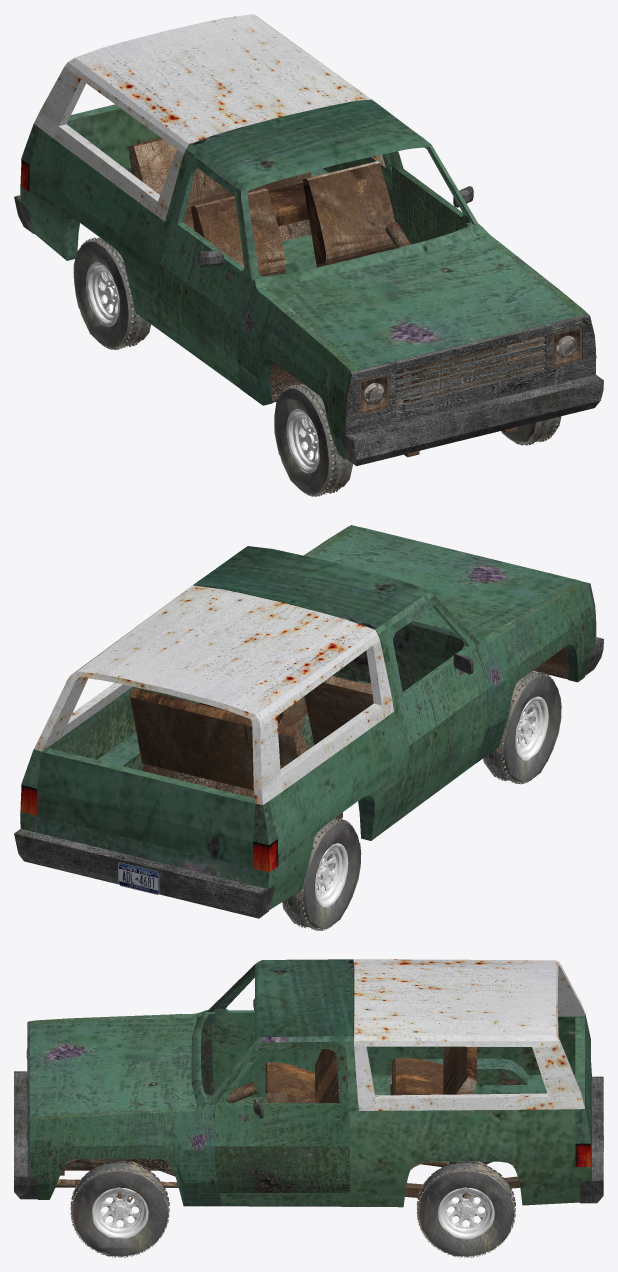
Rendered from low-poly-1977-chevrolet-blazer-ef8185.glb.
The picture shows the model from 3 angles, top to bottom: view 1: azimuth 30°, elevation 25°; view 2: azimuth 150°, elevation 25°; view 3: azimuth 270°, elevation 25°; orthographic projection. The views are drawn at different scales.
Parts seen in each view (by area): view 1: body, wheel-front-right, wheel-back-right, wheel-front-left; view 2: body, wheel-front-right, wheel-back-right; view 3: body, wheel-front-left, wheel-back-left.
Boxes of the visible parts, x1,y1,x2,y2 form: body: (14,14,603,473); wheel-front-right: (274,383,352,496); wheel-back-right: (73,237,150,349); wheel-front-left: (501,416,561,445); body: (14,525,603,918); wheel-front-right: (483,670,561,784); wheel-back-right: (282,818,361,930); body: (14,959,603,1239); wheel-front-left: (70,1161,169,1257); wheel-back-left: (416,1161,515,1257).
Size of the model in its own units: 2.23 by 1.94 by 4.8.
Materials: 47 (43 with a texture image).
